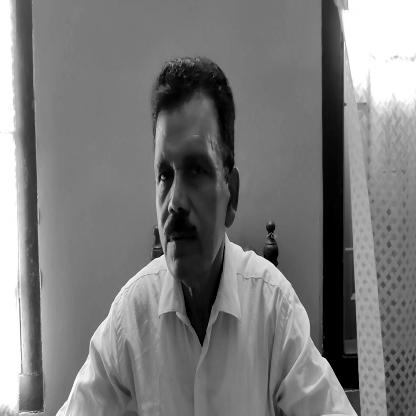Distracted: (146, 68, 234, 288)
